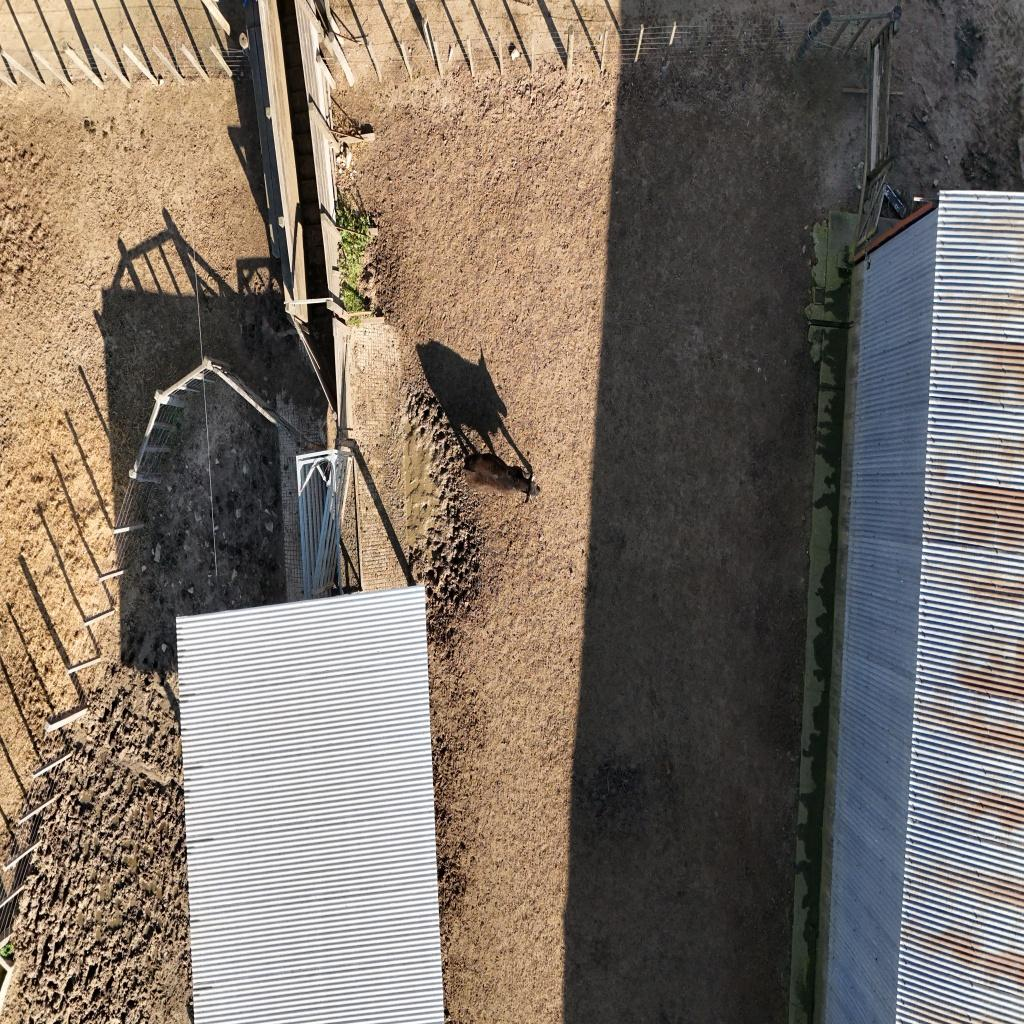cow: (454, 446, 545, 500)
